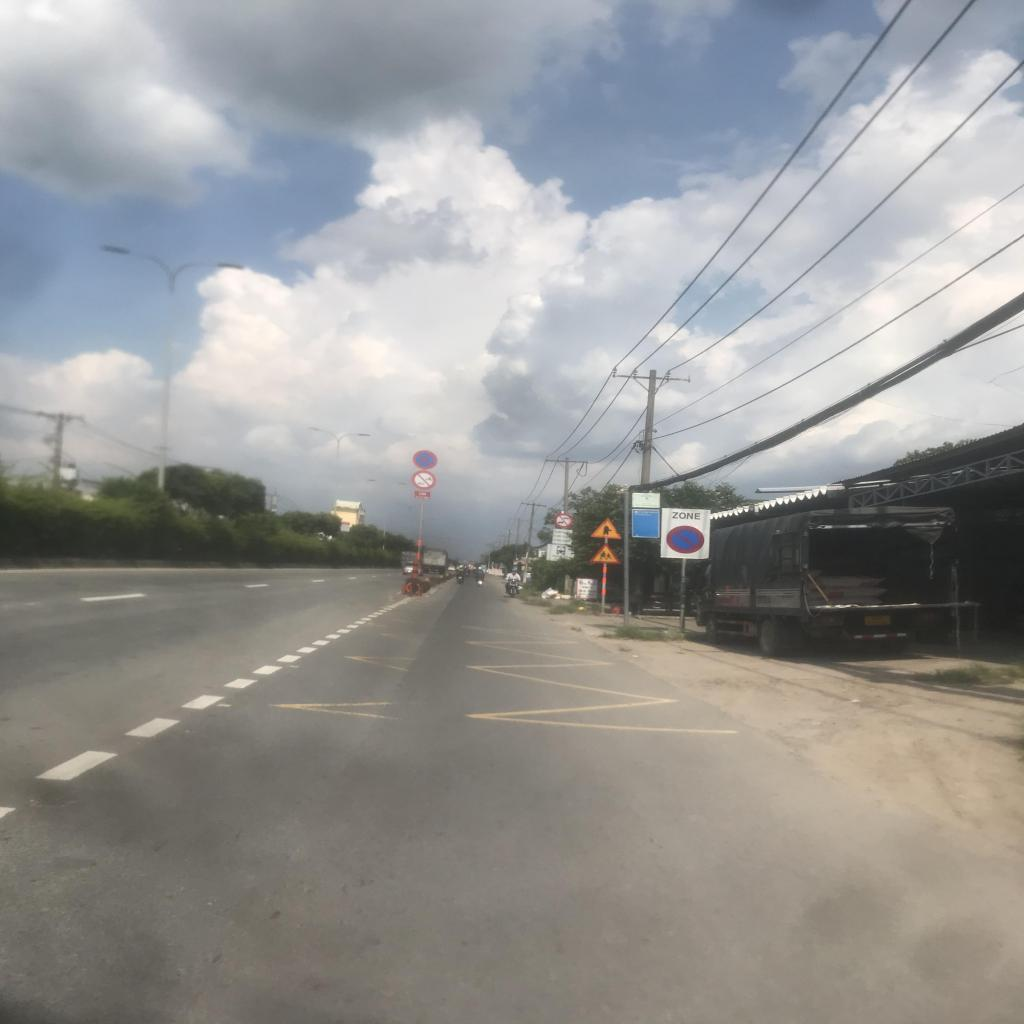cam_do_xe: (666, 526, 704, 554)
cam_dung_xe_va_do_xe: (412, 450, 438, 470)
cam_o_to_tai_va_xe_khach: (554, 513, 573, 528)
cam_xe_2_banh_va_xe_3_banh_co_dong_co: (411, 471, 437, 490)
chu_y_tre_em: (588, 542, 622, 564)
giao_nhau_voi_duong_khong_uu_tien: (590, 516, 623, 539)
khac: (546, 544, 574, 562), (552, 528, 573, 546)
